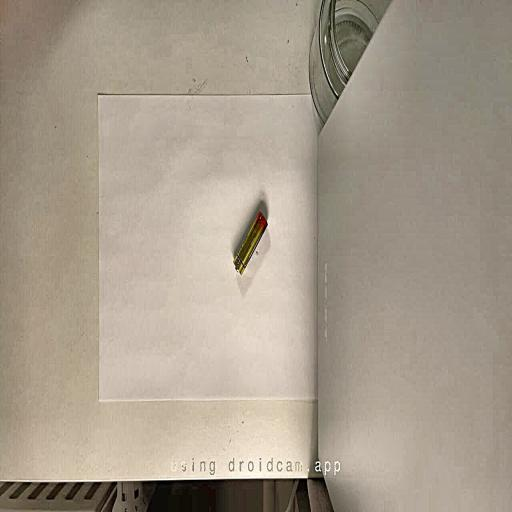PanasonicAA: (234, 211, 267, 274)
